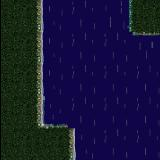Interaction: (25, 0, 56, 140), (56, 112, 84, 160)
Slow: (45, 37, 160, 121), (76, 121, 160, 160), (44, 0, 125, 38)
